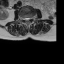CCS_normal: (26, 16, 28, 23)
LFS_normal: (30, 15, 32, 20)
LLS_normal: (28, 16, 30, 21)
RFS_normal: (23, 16, 24, 21)
RLS_normal: (24, 16, 26, 22)
